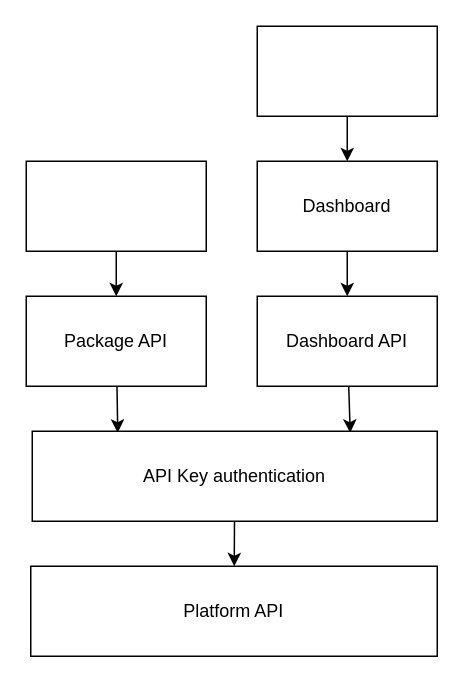
Some shapes in this 464 by 683 pixel diagram are drawn without their labels. Each missing label, with the centre of its shape:
"Amazon cognito authenticate" goes at [346,70].
"Package" goes at [115,205].
